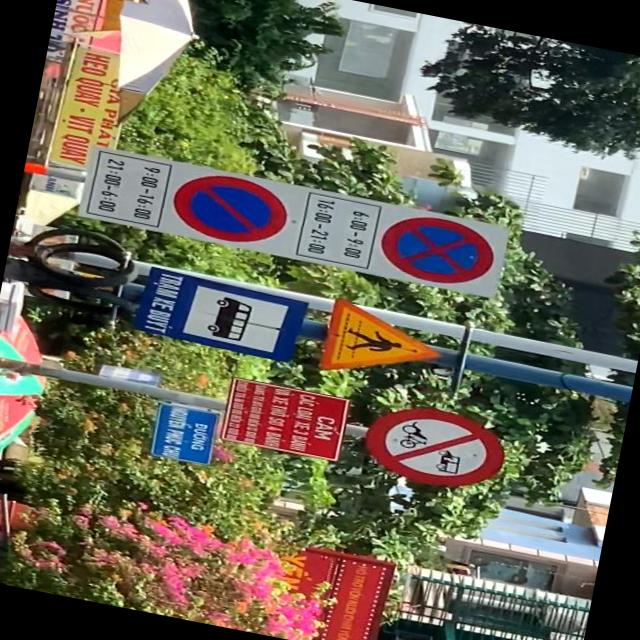P-130: (376, 210, 502, 293)
P-131a: (166, 168, 292, 250)
W-224: (320, 298, 448, 392)
